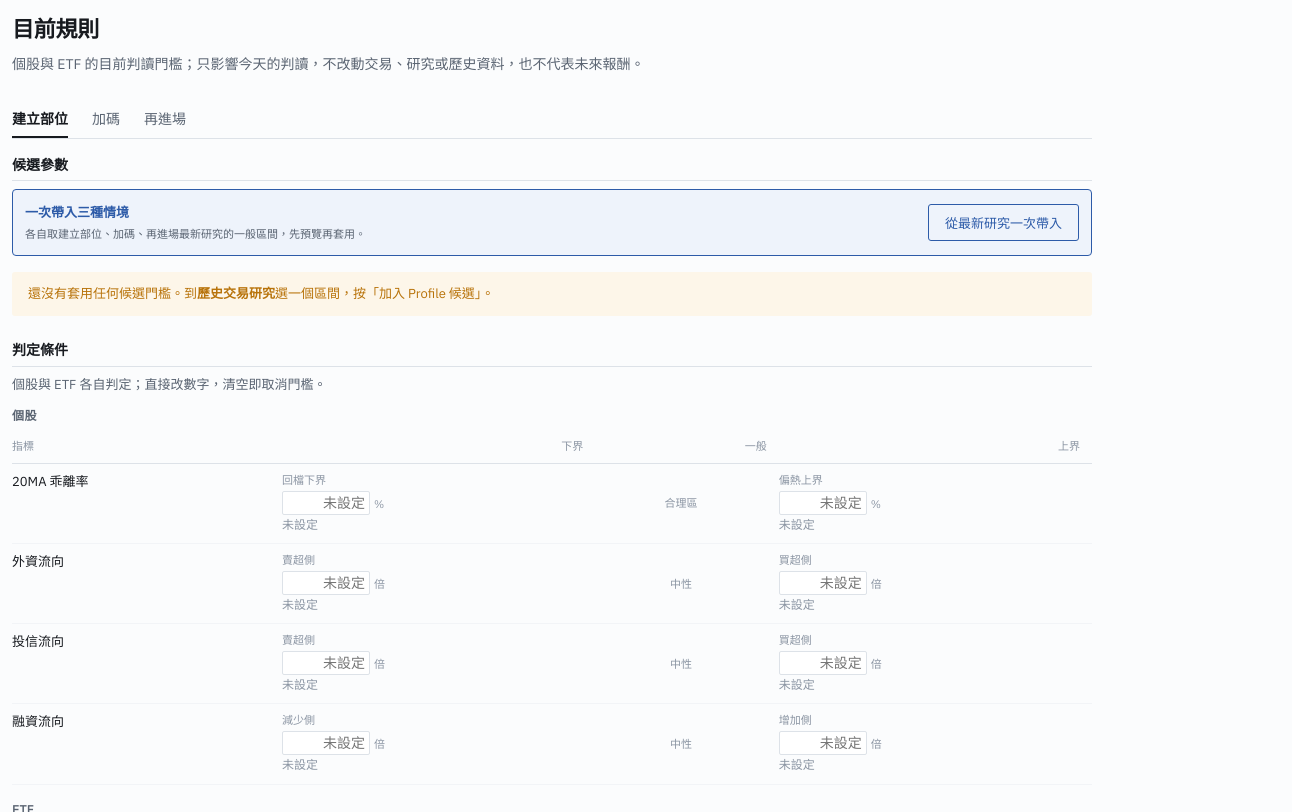
Test: 情境 Profile › 三個情境分開切換，只有加碼顯示相對均價
Expected: the text "相對均價" is not shown
Click the tab "加碼" at (106, 123), box [92,108,120,138]
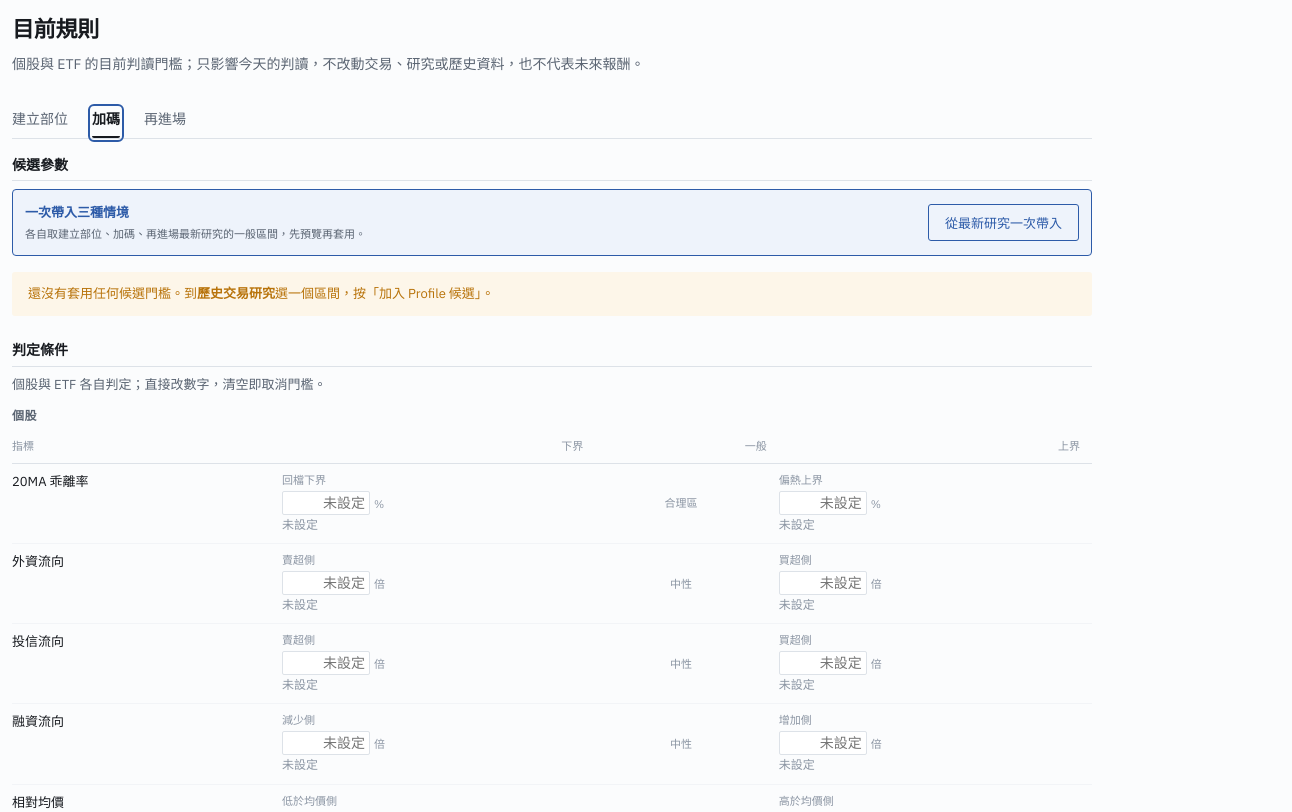
Expected: the text "相對均價" is shown, [12,794,64,811]
